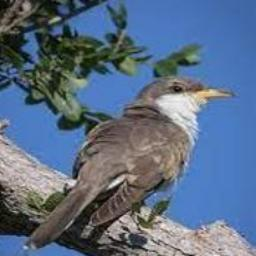Cuckoo: (21, 77, 234, 249)
